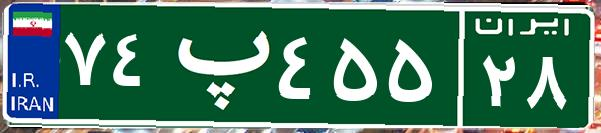2: (475, 38, 525, 113)
4: (273, 28, 330, 110), (110, 28, 158, 105)
5: (385, 28, 445, 110), (330, 28, 385, 110)
7: (57, 26, 110, 107)
8: (525, 38, 570, 115)
پ: (158, 15, 273, 115)
